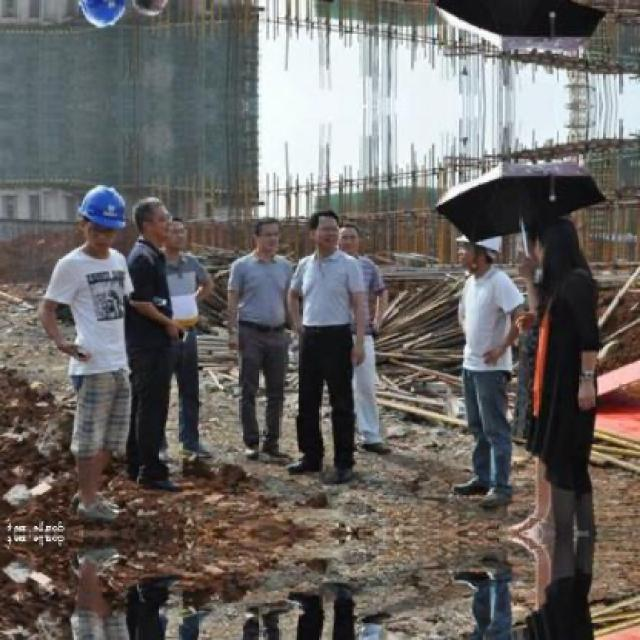con casco: (54, 180, 133, 271)
sin casco: (118, 176, 185, 251), (294, 210, 358, 264), (518, 226, 578, 282), (448, 232, 493, 295), (246, 211, 286, 269)
